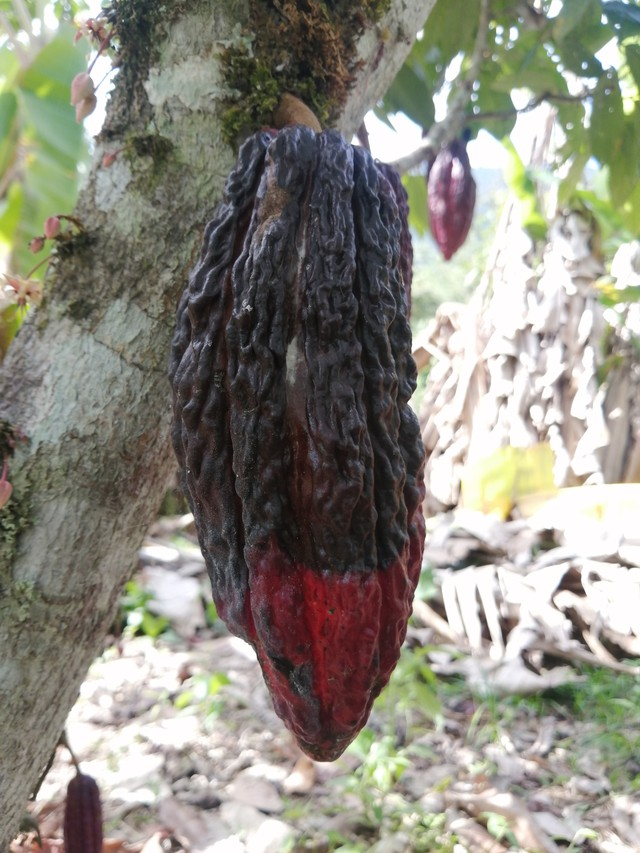phytophthora palmivora: (144, 114, 457, 776)
